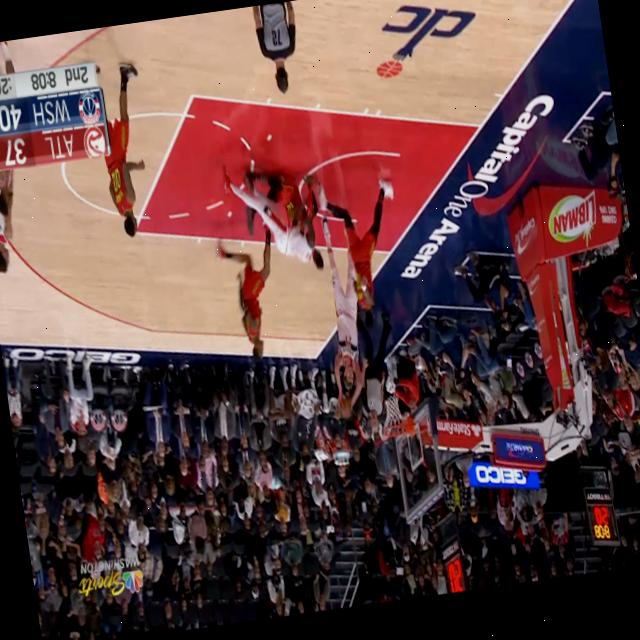foul: (200, 134, 344, 292)
no foul: (308, 112, 419, 386)
